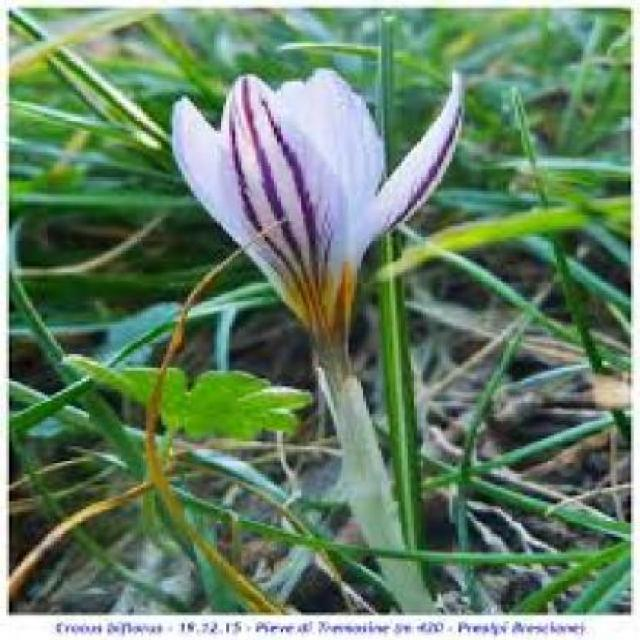saffron open: (172, 70, 461, 548)
